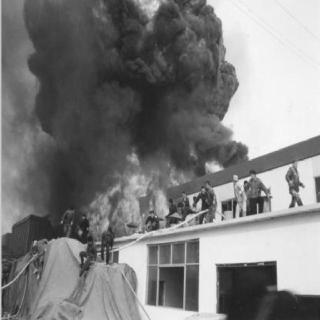Fire: (76, 150, 192, 241)
Smoke: (189, 112, 256, 170)
